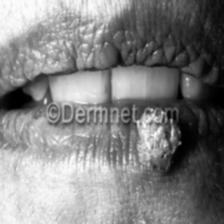Toxin: (140, 127, 186, 171)
